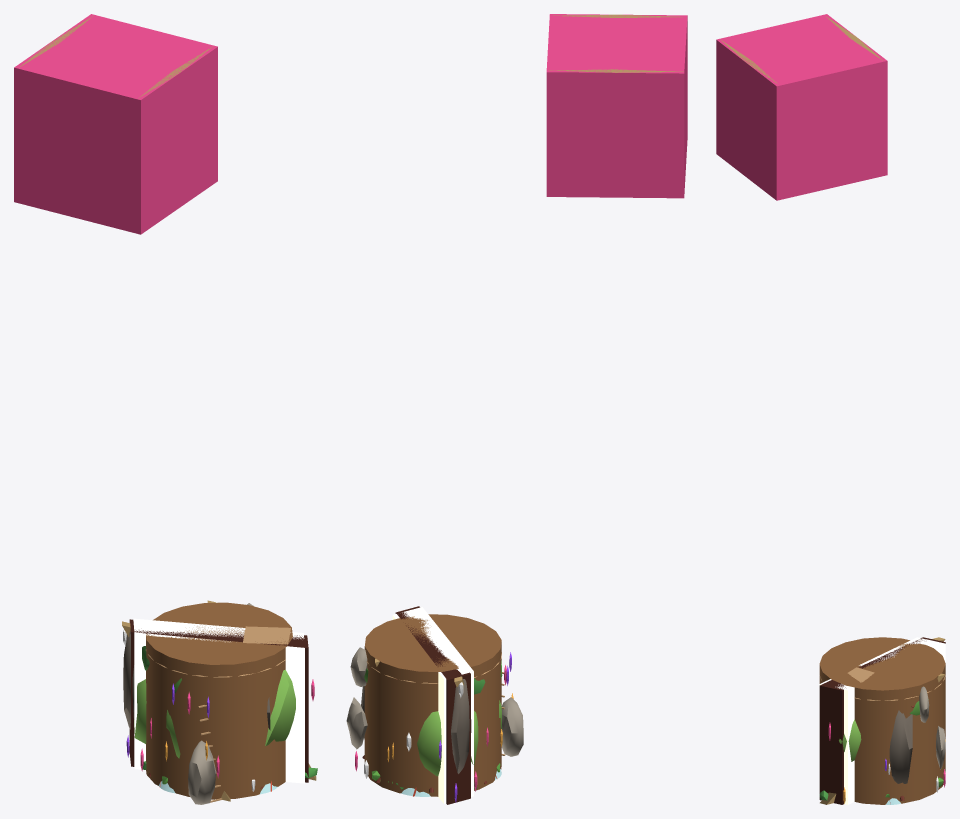
The model's file is ile-arbre.glb.
3 renders of one model, left to right at view 1: azimuth 30°, elevation 25°; view 2: azimuth 150°, elevation 25°; view 3: azimuth 270°, elevation 25°, orthographic. The views are drawn at different scales.
Parts seen in each view (by area): view 1: arbre_balancoire, arbre_decor; view 2: arbre_decor, arbre_balancoire; view 3: arbre_balancoire, arbre_decor.
Part boxes in pixels (<box>): arbre_balancoire: <box>14,14,217,234</box>; arbre_decor: <box>122,600,317,804</box>; arbre_decor: <box>346,606,523,804</box>; arbre_balancoire: <box>546,14,687,198</box>; arbre_balancoire: <box>716,14,887,200</box>; arbre_decor: <box>819,637,945,804</box>.
Bounding box in the file's own units: 4.7 × 11.64 × 3.64.
